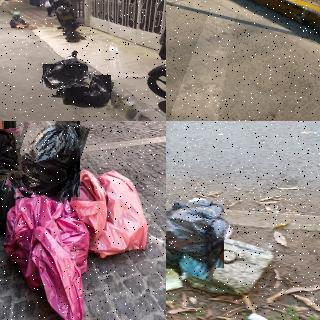Garbage: (4, 197, 93, 320), (74, 167, 151, 256), (10, 121, 85, 200), (166, 191, 228, 275), (0, 167, 32, 234), (62, 72, 112, 108), (43, 63, 89, 89), (0, 129, 21, 182)
